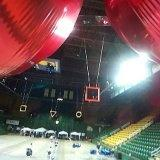Orange_Square_GShape: (85, 85, 100, 102)
Yellow_Circle_GShape: (76, 110, 82, 118)
Yellow_Square_GShape: (20, 104, 27, 112)
Yellow_Triangle_Gshape: (50, 110, 57, 118)
